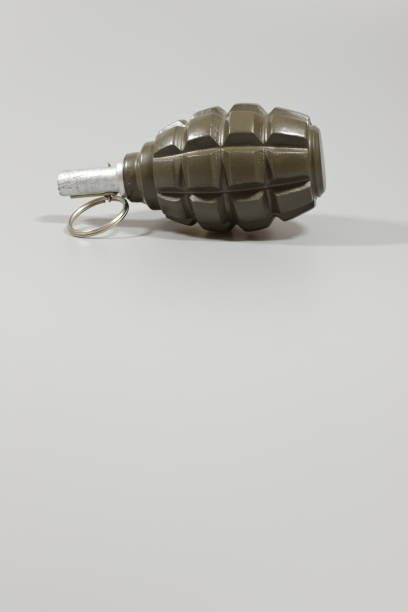e1: (51, 105, 326, 235)
